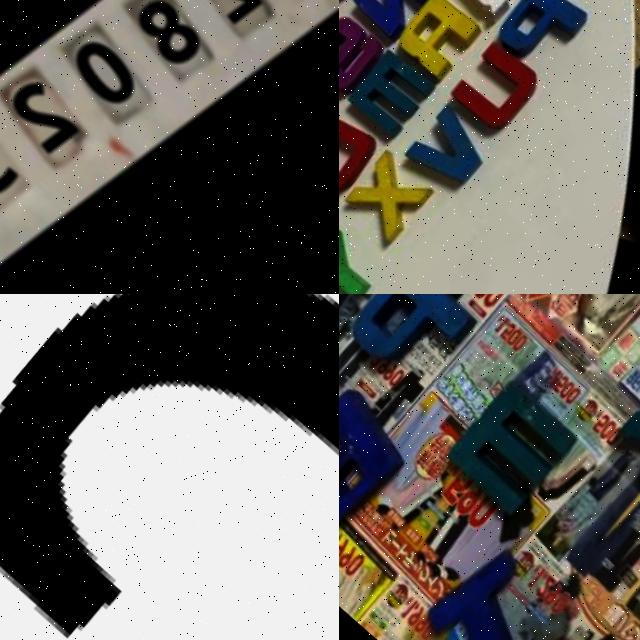0: (37, 4, 160, 125)
2: (0, 46, 97, 168), (166, 0, 282, 32)
3: (0, 95, 35, 215)
8: (100, 0, 226, 83)
B: (339, 369, 417, 539)
C: (0, 294, 339, 632)
K: (593, 347, 640, 505)
M: (430, 365, 577, 514), (339, 36, 436, 140)
N: (339, 0, 439, 47)
O: (339, 97, 382, 204)
P: (339, 294, 477, 399), (481, 0, 584, 69)
R: (379, 0, 485, 80)
S: (339, 4, 385, 106)
T: (398, 529, 562, 640)
U: (433, 26, 539, 134)
V: (394, 97, 494, 198)
X: (339, 137, 433, 248)
Y: (339, 223, 375, 294)
